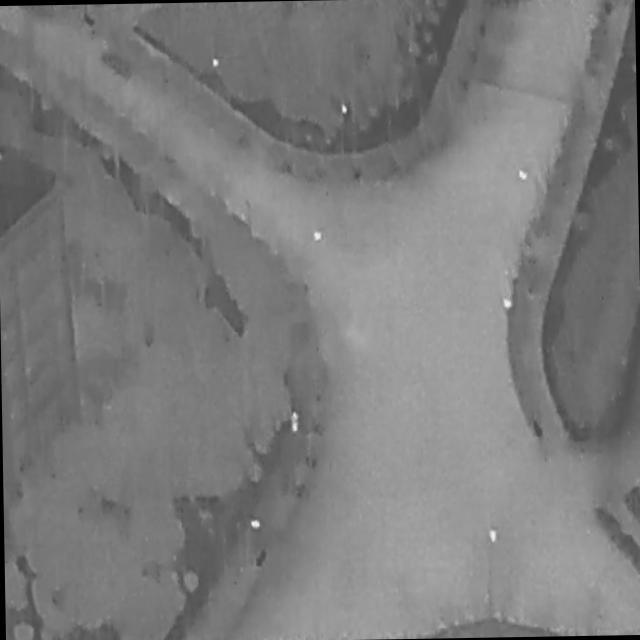person: (291, 410, 300, 433)
